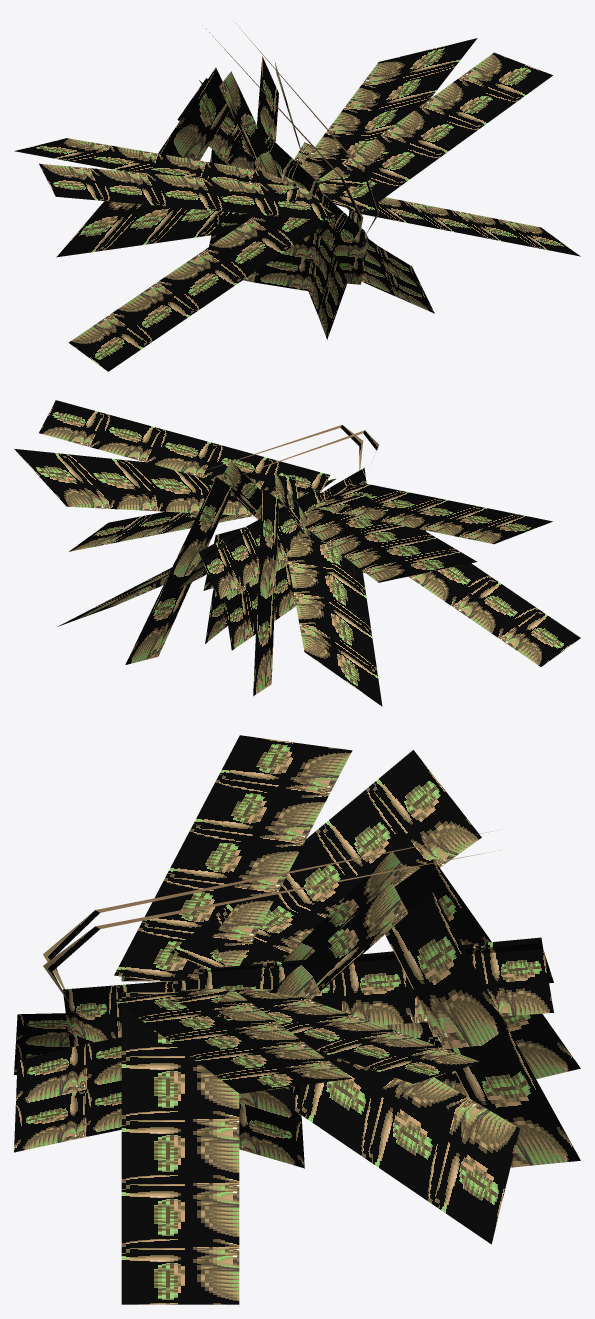
Rendered from 2629_musi29.gltf.
The picture shows the model from 3 angles, top to bottom: view 1: azimuth 30°, elevation 25°; view 2: azimuth 150°, elevation 25°; view 3: azimuth 270°, elevation 25°; orthographic projection. The views are drawn at different scales.
Parts seen in each view (by area): view 1: 2629_musi29; view 2: 2629_musi29; view 3: 2629_musi29.
Part boxes in pixels (<box>): 2629_musi29: <box>14,23,580,371</box>; 2629_musi29: <box>14,400,580,706</box>; 2629_musi29: <box>14,735,580,1304</box>.
Size of the model in its own units: 0.4082 by 0.1572 by 0.2727.
Materials: 1 (1 with a texture image).
